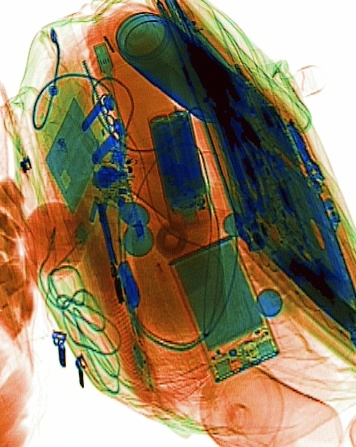powerbank: (146, 106, 211, 230)
